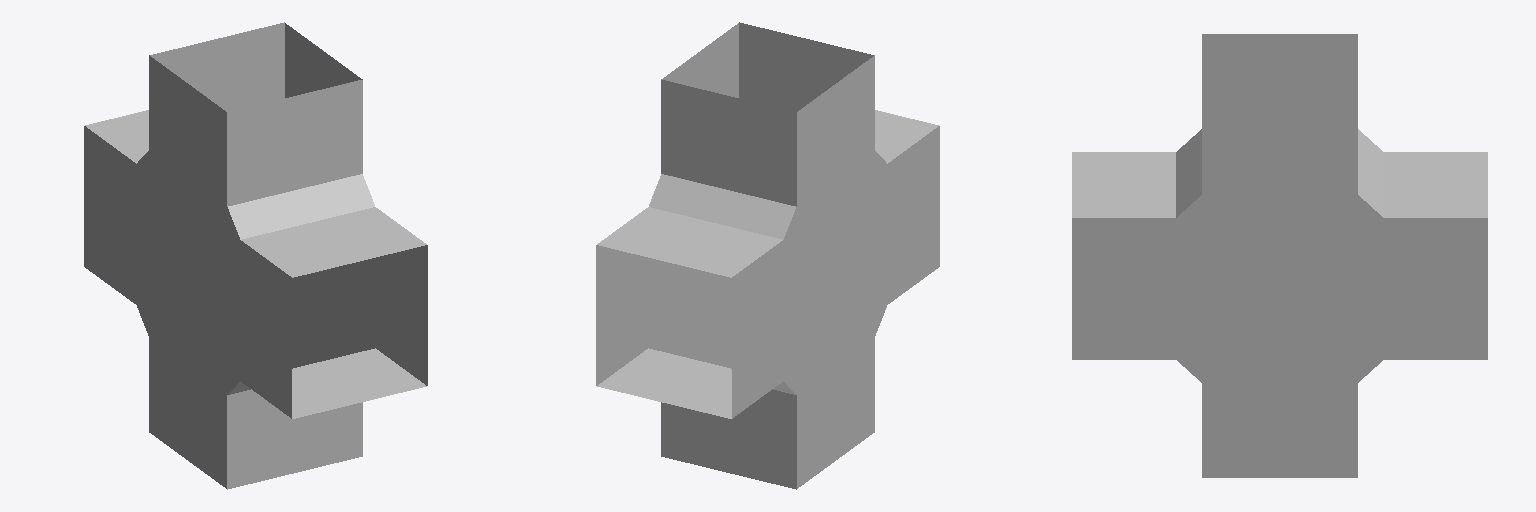
Rendered from pipe_junction.obj.
The picture shows the model from 3 angles: view 1: azimuth 30°, elevation 25°; view 2: azimuth 150°, elevation 25°; view 3: azimuth 270°, elevation 25°; orthographic projection.
Visible parts, largest first — view 1: junction; view 2: junction; view 3: junction.
Part boxes in pixels (left/top/right/bottom): junction: left=84, top=22, right=427, bottom=489; junction: left=596, top=22, right=939, bottom=489; junction: left=1072, top=34, right=1487, bottom=477.
Bounding box in the file's own units: 0.375 × 1 × 1.